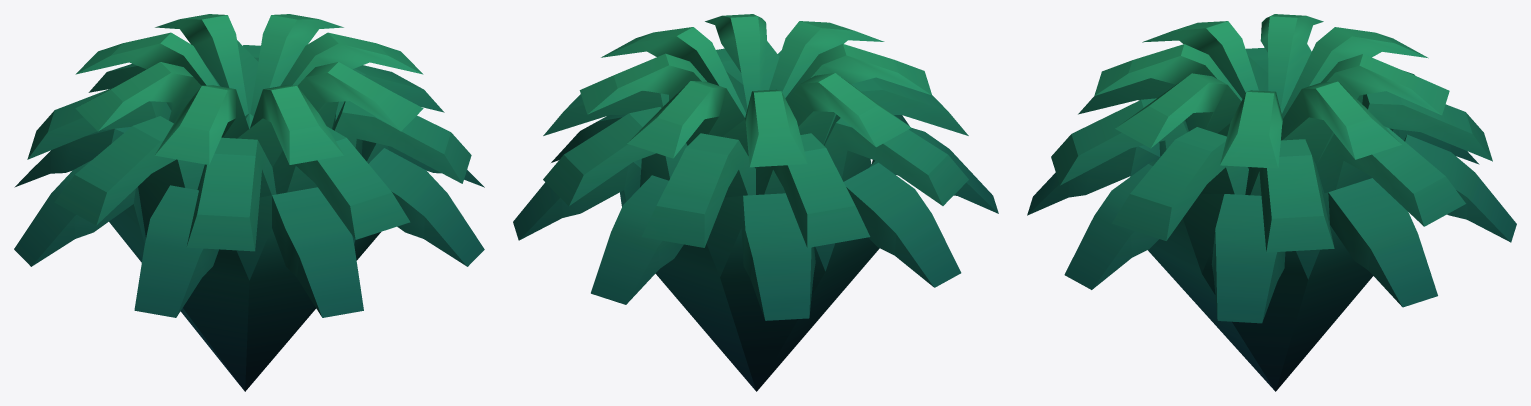
Rendered from plant2.fbx.
3 views of the same model, side by side, from view 1: azimuth 30°, elevation 25°; view 2: azimuth 150°, elevation 25°; view 3: azimuth 270°, elevation 25° (orthographic).
Visible parts, largest first — view 1: plant2; view 2: plant2; view 3: plant2.
Part boxes in pixels (bbox=[...]): plant2: bbox=[14, 14, 484, 391]; plant2: bbox=[513, 14, 998, 391]; plant2: bbox=[1027, 14, 1516, 391].
Size of the model in its own units: 0.0147 by 0.0112 by 0.0147.
1 material, 1 textured.
